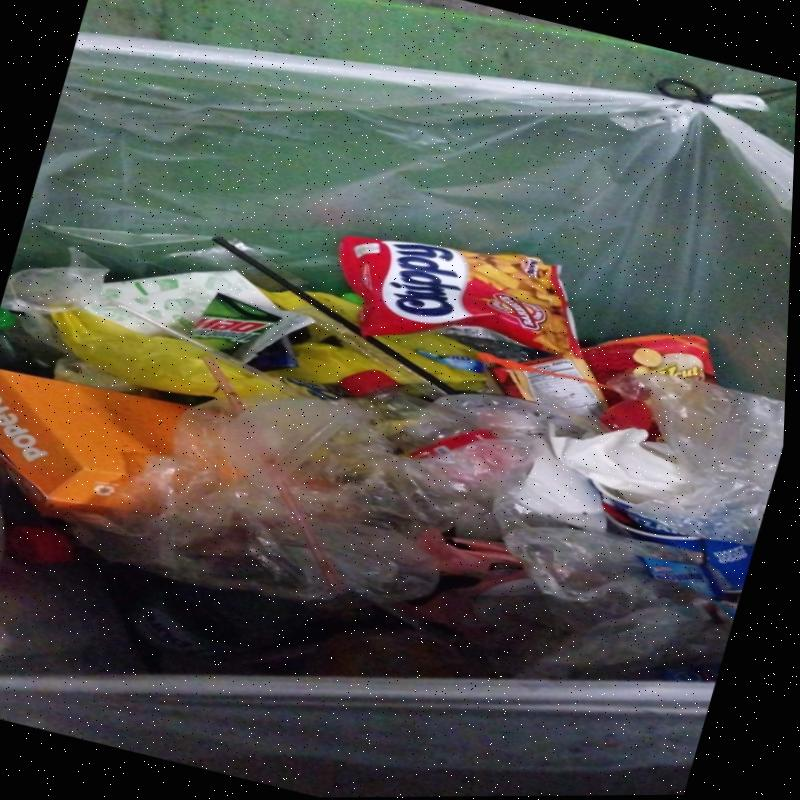cardboard: (0, 370, 190, 525)
food wrapper: (338, 236, 582, 358), (489, 334, 714, 424), (636, 557, 736, 619)
plastic bag: (628, 374, 785, 546)
plastic bottle: (338, 370, 496, 459)
plastic straw: (211, 236, 460, 395), (201, 357, 346, 590), (104, 297, 313, 399)
